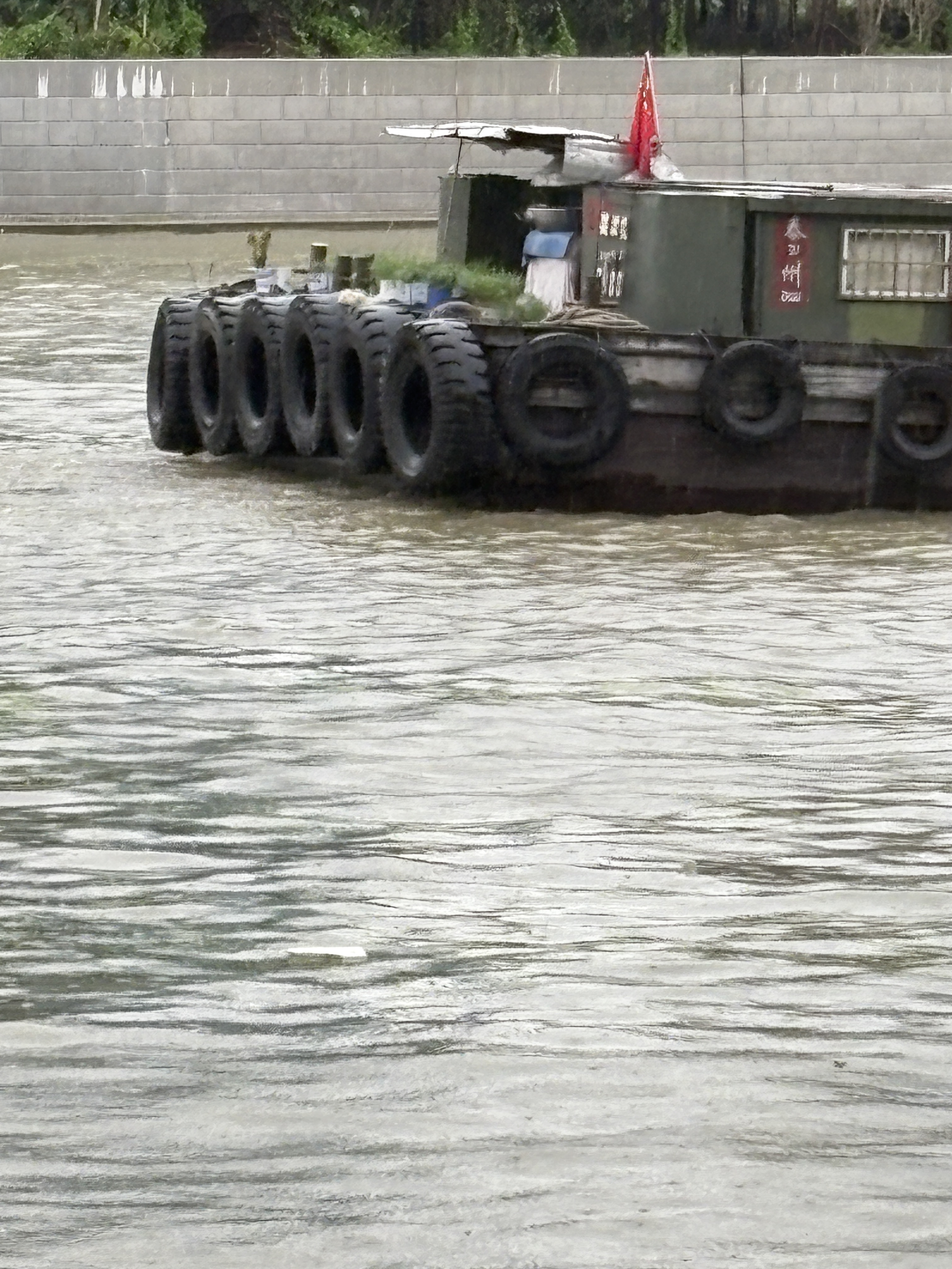Plastic wastes: (709, 776, 727, 890)
